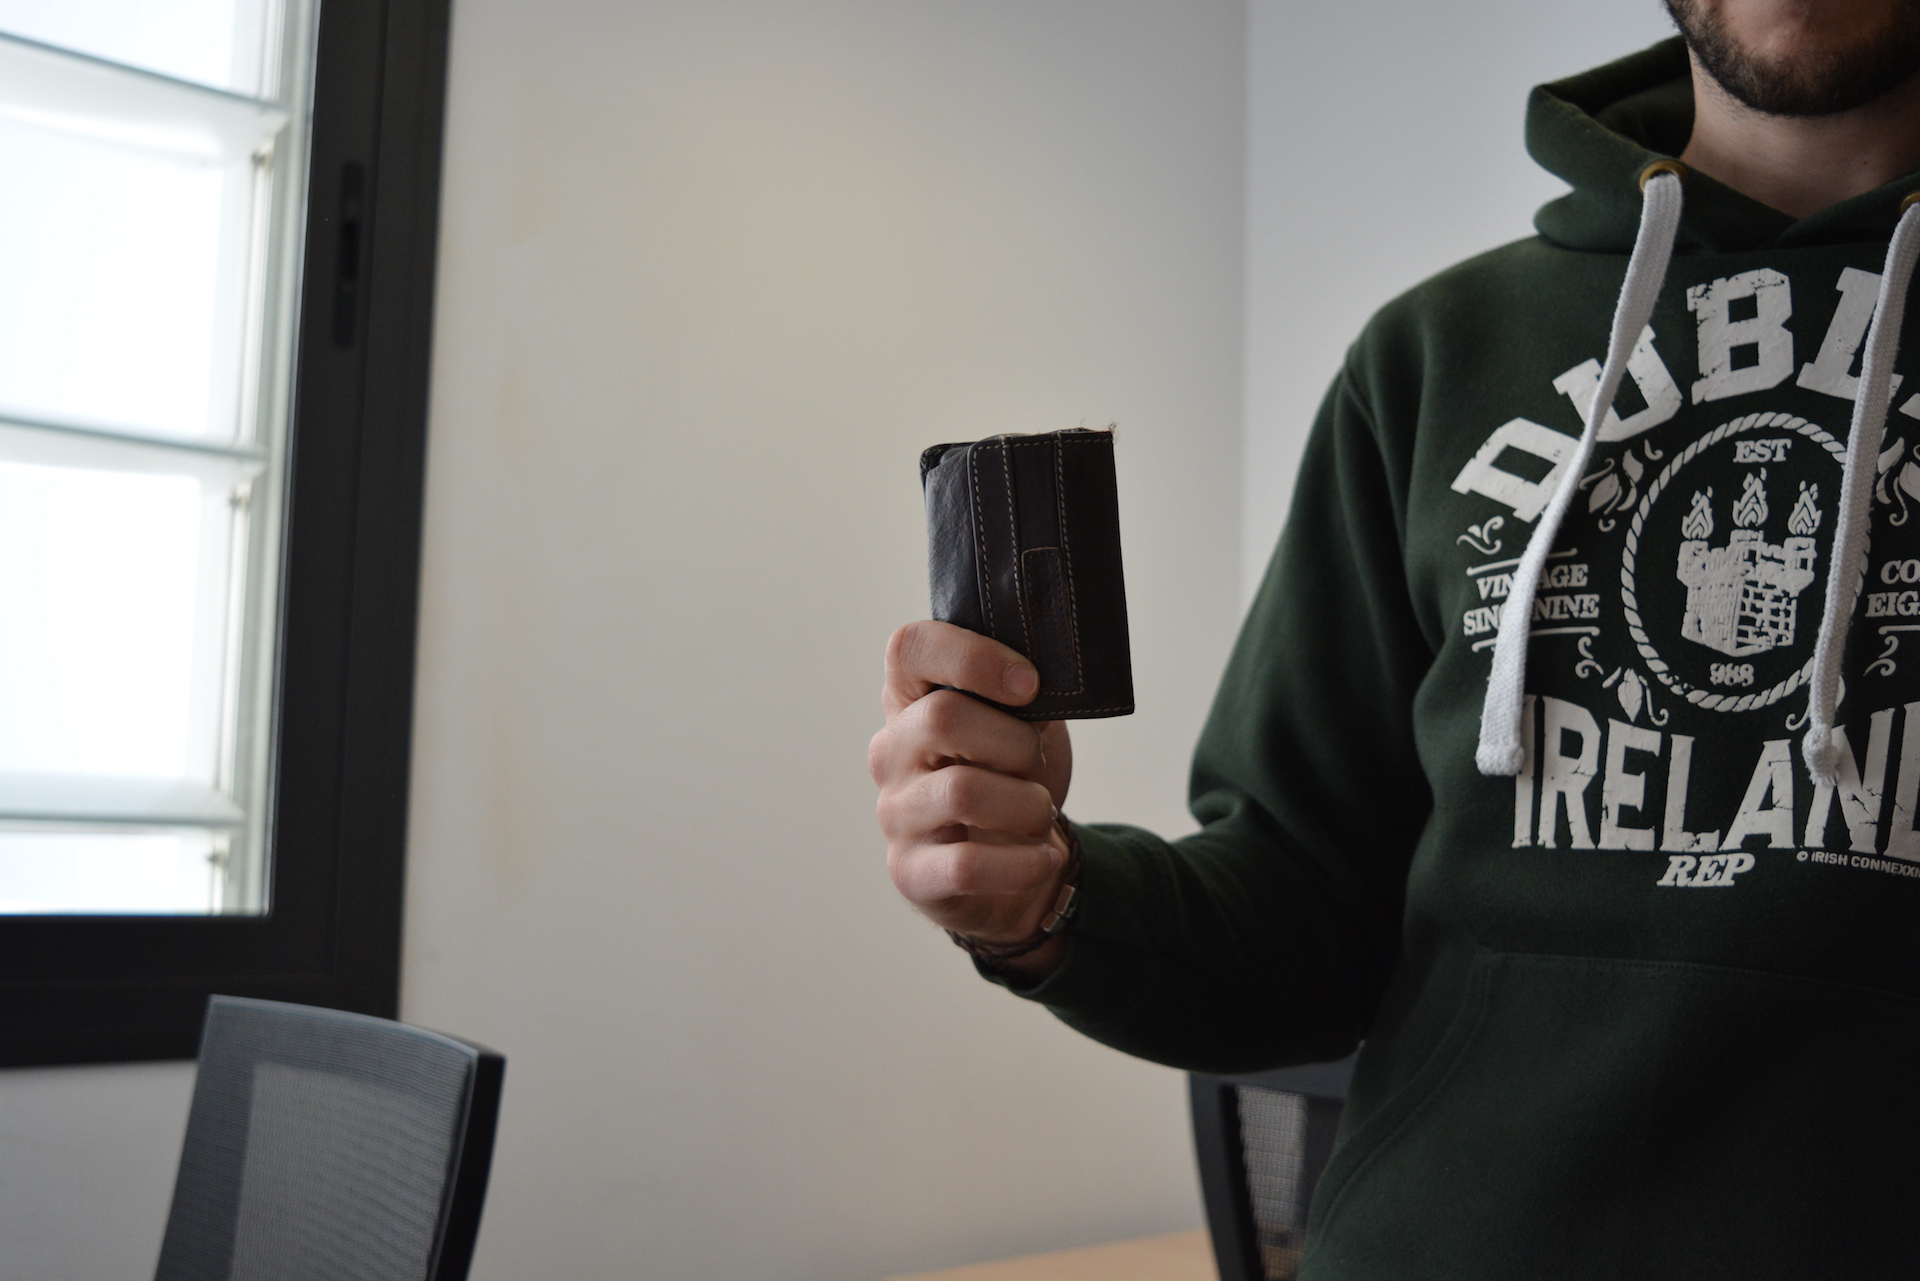monedero: (916, 420, 1138, 723)
